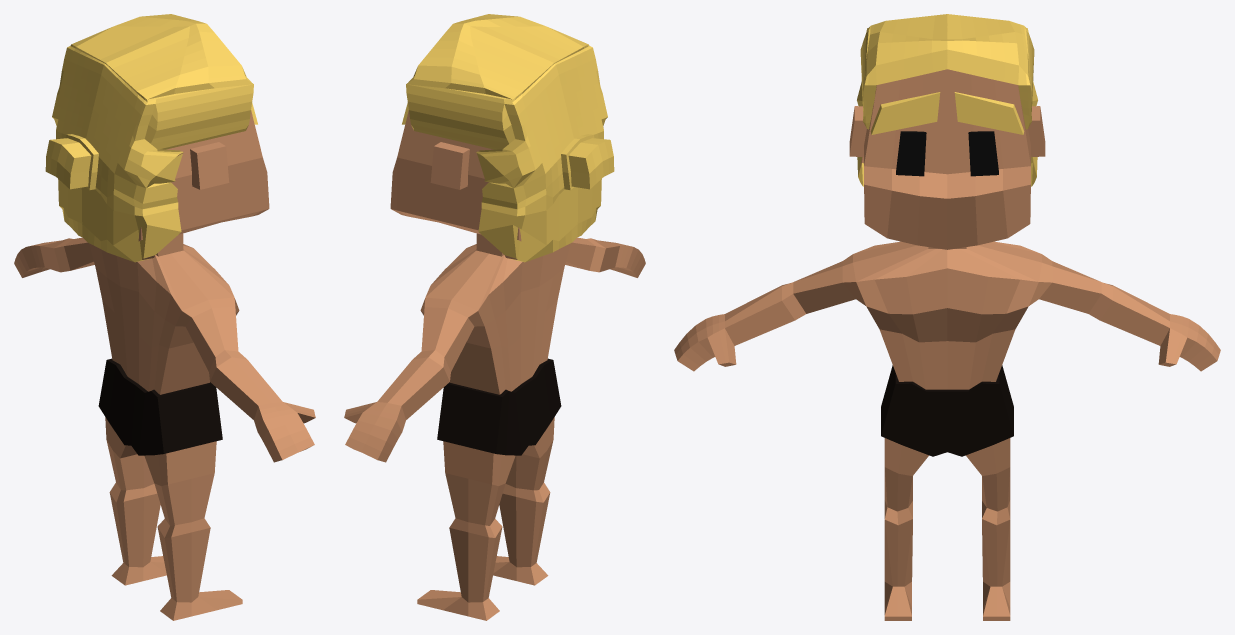
The model's file is Player_char_joe.fbx.
The picture shows the model from 3 angles, left to right: view 1: azimuth 30°, elevation 25°; view 2: azimuth 150°, elevation 25°; view 3: azimuth 270°, elevation 25°; orthographic projection.
Parts seen in each view (by area): view 1: Joe; view 2: Joe; view 3: Joe.
Boxes of the visible parts, x1,y1,x2,y2 form: Joe: [14, 14, 315, 620]; Joe: [344, 14, 645, 620]; Joe: [674, 14, 1220, 620].
Size of the model in its own units: 132 by 389 by 337.
